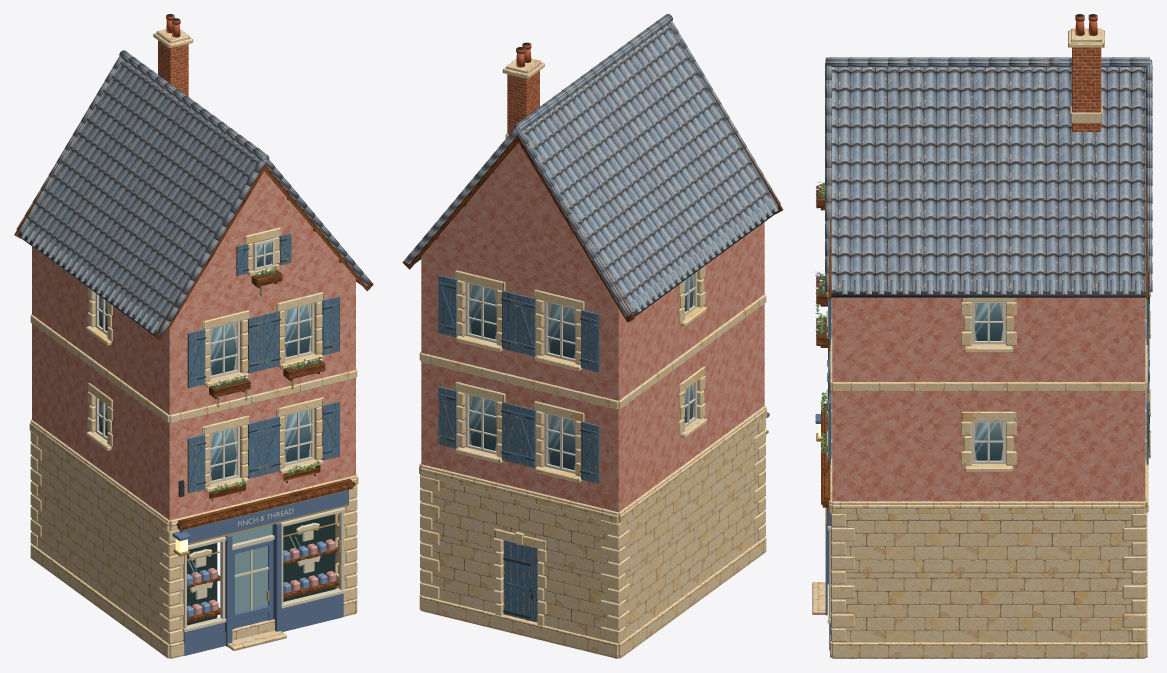
3 renders of one model, left to right at view 1: azimuth 30°, elevation 25°; view 2: azimuth 150°, elevation 25°; view 3: azimuth 270°, elevation 25°, orthographic. The views are drawn at different scales.
Visible parts, largest first — view 1: seaside_plaster, seaside_roof, seaside_stone, seaside_shutter, shop_joinery.001, house_window_pane, house_paint, shop_cream.001, seaside_timber, shop_recess, detail_window_boxes, seaside_timber.001 (+7 smaller); view 2: seaside_stone, seaside_plaster, seaside_roof, seaside_shutter, house_window_pane, house_paint, seaside_timber, seaside_ridge, house_brick; view 3: seaside_roof, seaside_stone, seaside_plaster, house_paint, seaside_ridge, house_brick, house_window_pane, seaside_timber, detail_window_boxes, seaside_shutter, shop_joinery.001.
Boxes of the visible parts, <box> form: seaside_plaster: <box>32,171,355,520</box>; seaside_roof: <box>16,57,371,335</box>; seaside_stone: <box>29,29,358,658</box>; seaside_shutter: <box>187,233,339,493</box>; shop_joinery.001: <box>172,489,348,655</box>; house_window_pane: <box>99,240,311,480</box>; house_paint: <box>18,14,361,497</box>; shop_cream.001: <box>182,507,345,632</box>; seaside_timber: <box>14,97,373,528</box>; shop_recess: <box>187,514,335,625</box>; detail_window_boxes: <box>209,266,325,501</box>; seaside_timber.001: <box>177,483,353,622</box>; seaside_stone: <box>419,58,766,658</box>; seaside_plaster: <box>421,142,764,512</box>; seaside_roof: <box>405,21,780,316</box>; seaside_shutter: <box>438,275,599,622</box>; house_window_pane: <box>469,274,693,470</box>; house_paint: <box>415,42,778,618</box>; seaside_timber: <box>402,63,783,322</box>; seaside_ridge: <box>513,14,672,130</box>; house_brick: <box>507,70,539,134</box>; seaside_roof: <box>825,59,1152,294</box>; seaside_stone: <box>826,28,1150,658</box>; seaside_plaster: <box>832,297,1145,501</box>; house_paint: <box>827,14,1149,463</box>; seaside_ridge: <box>825,57,1149,67</box>; house_brick: <box>1072,47,1101,131</box>; house_window_pane: <box>974,303,1002,460</box>; seaside_timber: <box>821,98,1148,504</box>; detail_window_boxes: <box>815,181,830,464</box>; seaside_shutter: <box>828,292,1149,464</box>; shop_joinery.001: <box>815,414,830,650</box>.
Size of the model in its own units: 5.88 by 13.62 by 6.96.
15 materials, 9 textured.
